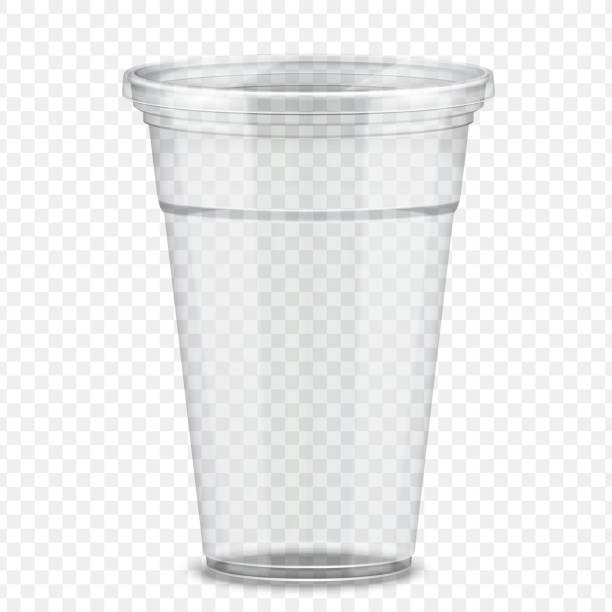plastic_bottle: (113, 46, 501, 593)
